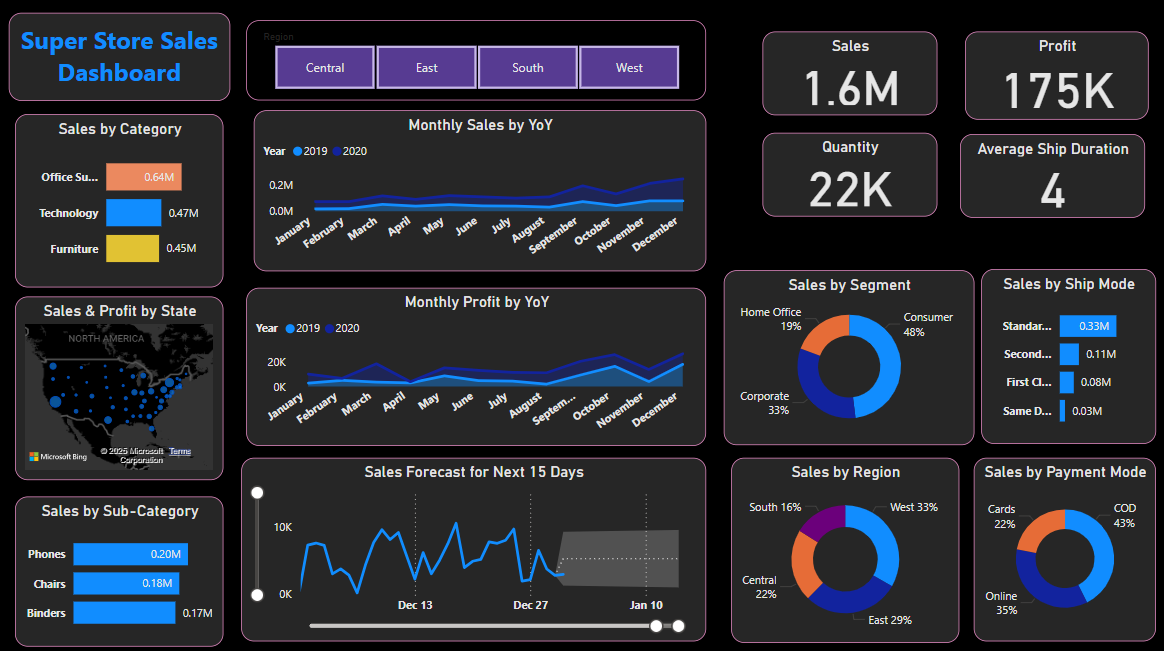

Layout of this report page (visuals, bound fields, positions):
{"tool":"powerbi","page":{"name":"Sales Dashboard","canvas":[1280,720],"ordinal":0},"visuals":[{"type":"clusteredBarChart","title":"Best Selling Category","fields":{"Y":["Sum(SuperStore_Sales_Dataset.Sales)"],"Category":["SuperStore_Sales_Dataset.Category"]},"box":[16.9,126.7,229.2,150.8],"z":0},{"type":"clusteredBarChart","title":"Top Selling Products","fields":{"Y":["Sum(SuperStore_Sales_Dataset.Sales)"],"Category":["SuperStore_Sales_Dataset.Sub-Category"]},"box":[16.5,546.1,229.2,164.7],"z":1000},{"type":"clusteredBarChart","title":"Sales by Ship Mode","fields":{"Y":["Sum(SuperStore_Sales_Dataset.Sales)"],"Category":["SuperStore_Sales_Dataset.Ship Mode"]},"box":[1076.7,296.7,191.7,191.7],"z":2000},{"type":"stackedAreaChart","title":"Monthly Sales by YoY","fields":{"Category":["SuperStore_Sales_Dataset.Order Date.Variation.Date Hierarchy.Month","SuperStore_Sales_Dataset.Order Date.Variation.Date Hierarchy.Day"],"Y":["Sum(SuperStore_Sales_Dataset.Sales)"],"Series":["SuperStore_Sales_Dataset.Order Date.Variation.Date Hierarchy.Year"]},"box":[278.3,121.7,496.7,176.7],"z":3000},{"type":"stackedAreaChart","title":"Monthly Profit by YoY","fields":{"Category":["SuperStore_Sales_Dataset.Order Date.Variation.Date Hierarchy.Month","SuperStore_Sales_Dataset.Order Date.Variation.Date Hierarchy.Day"],"Series":["SuperStore_Sales_Dataset.Order Date.Variation.Date Hierarchy.Year"],"Y":["Sum(SuperStore_Sales_Dataset.Profit)"]},"box":[270,316.7,505,173.3],"z":4000},{"type":"map","title":"Sales & Profit by State","fields":{"Category":["SuperStore_Sales_Dataset.State"],"Size":["Sum(SuperStore_Sales_Dataset.Sales)"]},"box":[16.9,382.4,229.2,146],"z":5000},{"type":"donutChart","title":"Sales by Segment","fields":{"Category":["SuperStore_Sales_Dataset.Segment"],"Y":["Sum(SuperStore_Sales_Dataset.Sales)"]},"box":[795,298.3,275,191.7],"z":6000},{"type":"donutChart","title":"Sales by Region","fields":{"Y":["Sum(SuperStore_Sales_Dataset.Sales)"],"Category":["SuperStore_Sales_Dataset.Region"]},"box":[803.3,503.3,250,203.3],"z":7000},{"type":"donutChart","title":"Sales by Payment Mode","fields":{"Y":["Sum(SuperStore_Sales_Dataset.Sales)"],"Category":["SuperStore_Sales_Dataset.Payment Mode"]},"box":[1068.3,503.3,200,201.7],"z":8000},{"type":"slicer","fields":{"Values":["SuperStore_Sales_Dataset.Region"]},"box":[270,23.3,505,88.3],"z":9000},{"type":"textbox","box":[10,15,243.3,96.7],"z":10000},{"type":"card","title":"Sales","fields":{"Values":["Sum(SuperStore_Sales_Dataset.Sales)"]},"box":[836.7,35,191.7,91.7],"z":11000},{"type":"card","title":"Profit","fields":{"Values":["Sum(SuperStore_Sales_Dataset.Profit)"]},"box":[1060,35,201.7,96.7],"z":12000},{"type":"card","title":"Quantity","fields":{"Values":["Sum(SuperStore_Sales_Dataset.Quantity)"]},"box":[836.7,146.7,191.7,91.7],"z":13000},{"type":"card","title":"Average Ship Duration","fields":{"Values":["Avg(SuperStore_Sales_Dataset.DurationDelivery)"]},"box":[1053.3,148.3,203.3,91.7],"z":14000},{"type":"lineChart","title":"Sales Forecast for Next 15 Days","fields":{"Y":["Sum(SuperStore_Sales_Dataset.Sales)"],"Category":["SuperStore_Sales_Dataset.Order Date"]},"box":[272.7,504.3,509.1,201.5],"z":15000},{"type":"slicer","title":"Select State","fields":{"Values":["SuperStore_Sales_Dataset.State"]},"box":[13.3,289.5,232.8,92.9],"z":16000}]}

Visuals, with their boxes in screenshot pixels (x1, y1, x2, y2), scaled from the page's 1280x720 canvas onto the 1164x651 screenshot:
"Best Selling Category" clusteredBarChart: (left=15, top=115, right=224, bottom=251)
"Top Selling Products" clusteredBarChart: (left=15, top=494, right=223, bottom=643)
"Sales by Ship Mode" clusteredBarChart: (left=979, top=268, right=1153, bottom=442)
"Monthly Sales by YoY" stackedAreaChart: (left=253, top=110, right=705, bottom=270)
"Monthly Profit by YoY" stackedAreaChart: (left=246, top=286, right=705, bottom=443)
"Sales & Profit by State" map: (left=15, top=346, right=224, bottom=478)
"Sales by Segment" donutChart: (left=723, top=270, right=973, bottom=443)
"Sales by Region" donutChart: (left=731, top=455, right=958, bottom=639)
"Sales by Payment Mode" donutChart: (left=971, top=455, right=1153, bottom=637)
slicer - SuperStore_Sales_Dataset.Region: (left=246, top=21, right=705, bottom=101)
textbox: (left=9, top=14, right=230, bottom=101)
"Sales" card: (left=761, top=32, right=935, bottom=115)
"Profit" card: (left=964, top=32, right=1147, bottom=119)
"Quantity" card: (left=761, top=133, right=935, bottom=216)
"Average Ship Duration" card: (left=958, top=134, right=1143, bottom=217)
"Sales Forecast for Next 15 Days" lineChart: (left=248, top=456, right=711, bottom=638)
"Select State" slicer: (left=12, top=262, right=224, bottom=346)
